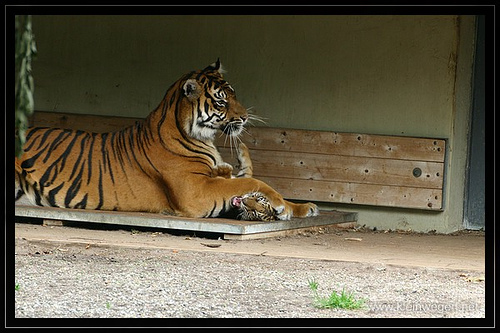Tigre: (19, 44, 321, 225)
